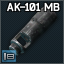AK-101 5.56x45 muzzle brake & compensator: (0, 0, 64, 64)
